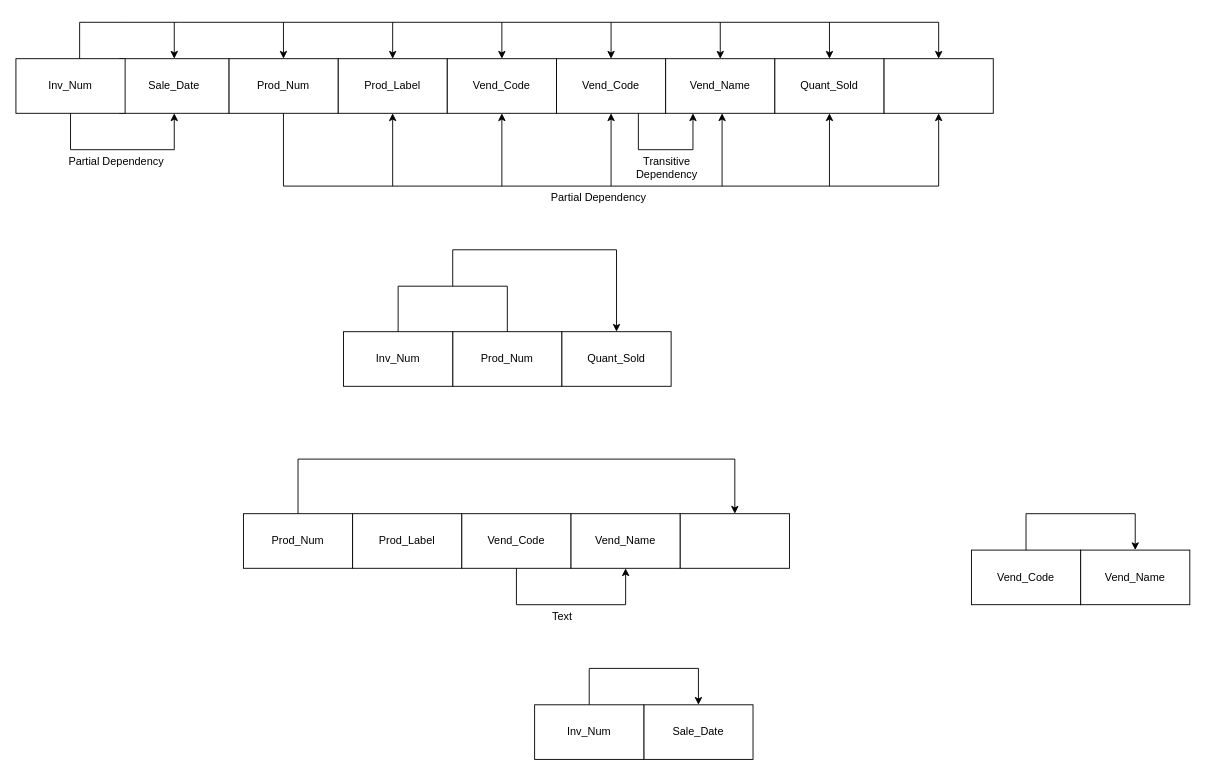
Some shapes in this 1206 by 775 pixel diagram are drawn without their labels. The centre of each missing label's shape, as x and y in pixels:
"Prod_Name" goes at (x=734, y=540).
"Prod_Price" goes at (x=938, y=85).
